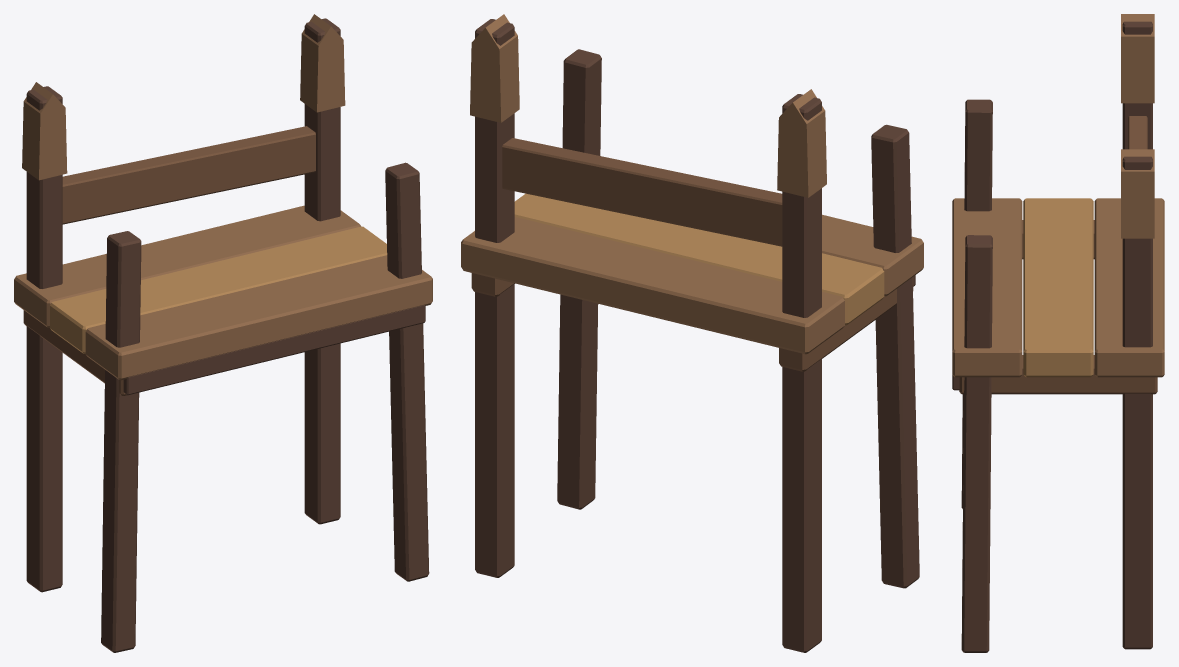
File: small_shelf.glb
3 renders of one model, left to right at view 1: azimuth 30°, elevation 25°; view 2: azimuth 150°, elevation 25°; view 3: azimuth 270°, elevation 25°, orthographic. The views are drawn at different scales.
Visible parts, largest first — view 1: small_shelf; view 2: small_shelf; view 3: small_shelf.
Boxes of the visible parts, x1,y1,x2,y2 form: small_shelf: (14,14,432,652); small_shelf: (461,14,923,652); small_shelf: (952,14,1164,652).
Bounding box in the file's own units: 0.6 × 0.9 × 0.35.
